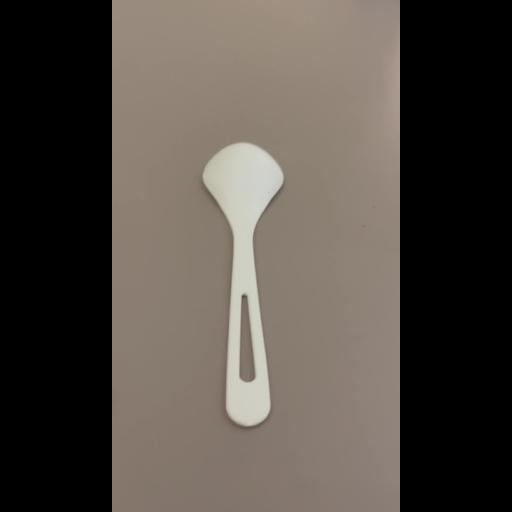utensil: (185, 131, 295, 435)
